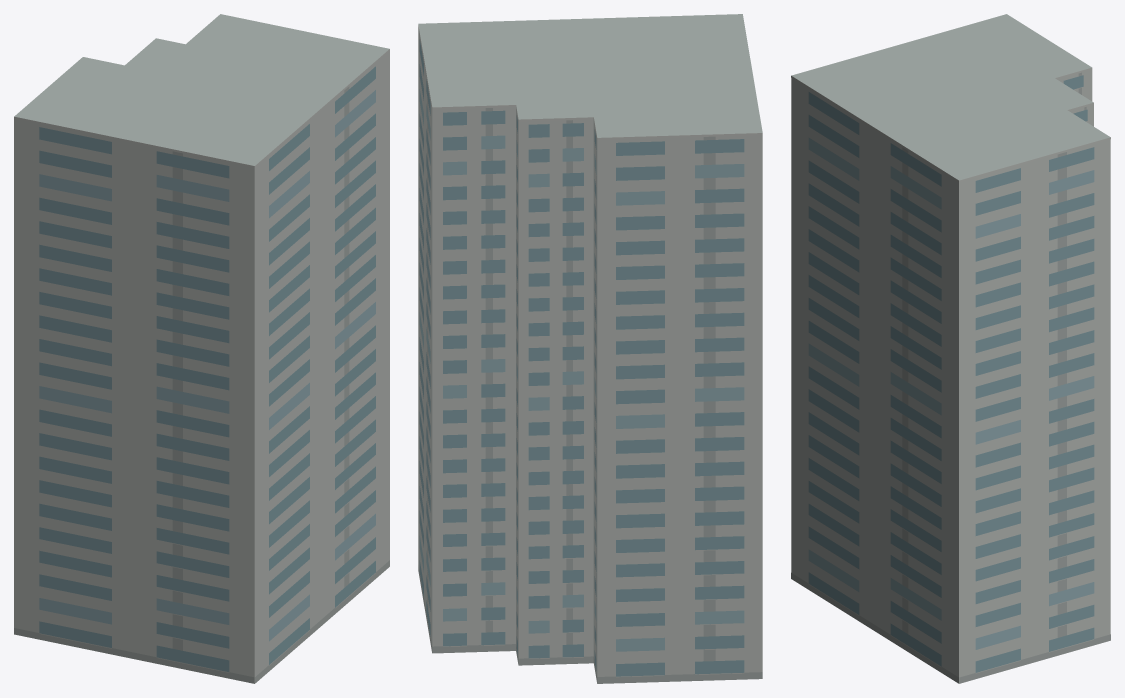
Rendered from residential-af7372d3-a532-49e2-8d8c-0846bbede21e.glb.
3 renders of one model, left to right at view 1: azimuth 30°, elevation 25°; view 2: azimuth 150°, elevation 25°; view 3: azimuth 270°, elevation 25°, orthographic. The views are drawn at different scales.
Parts seen in each view (by area): view 1: residential-af7372d3-a532-49e2-8d8c-0846bbede21e.tmp; view 2: residential-af7372d3-a532-49e2-8d8c-0846bbede21e.tmp; view 3: residential-af7372d3-a532-49e2-8d8c-0846bbede21e.tmp.
Boxes of the visible parts, <box> form: residential-af7372d3-a532-49e2-8d8c-0846bbede21e.tmp: <box>14,14,389,683</box>; residential-af7372d3-a532-49e2-8d8c-0846bbede21e.tmp: <box>418,14,762,683</box>; residential-af7372d3-a532-49e2-8d8c-0846bbede21e.tmp: <box>791,14,1110,683</box>.
Bounding box in the file's own units: 42.6 × 60 × 34.54.
